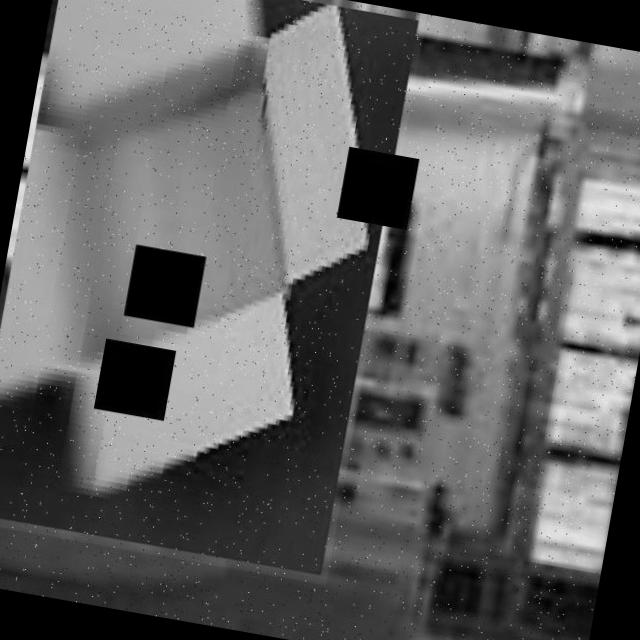box: (0, 0, 426, 585)
